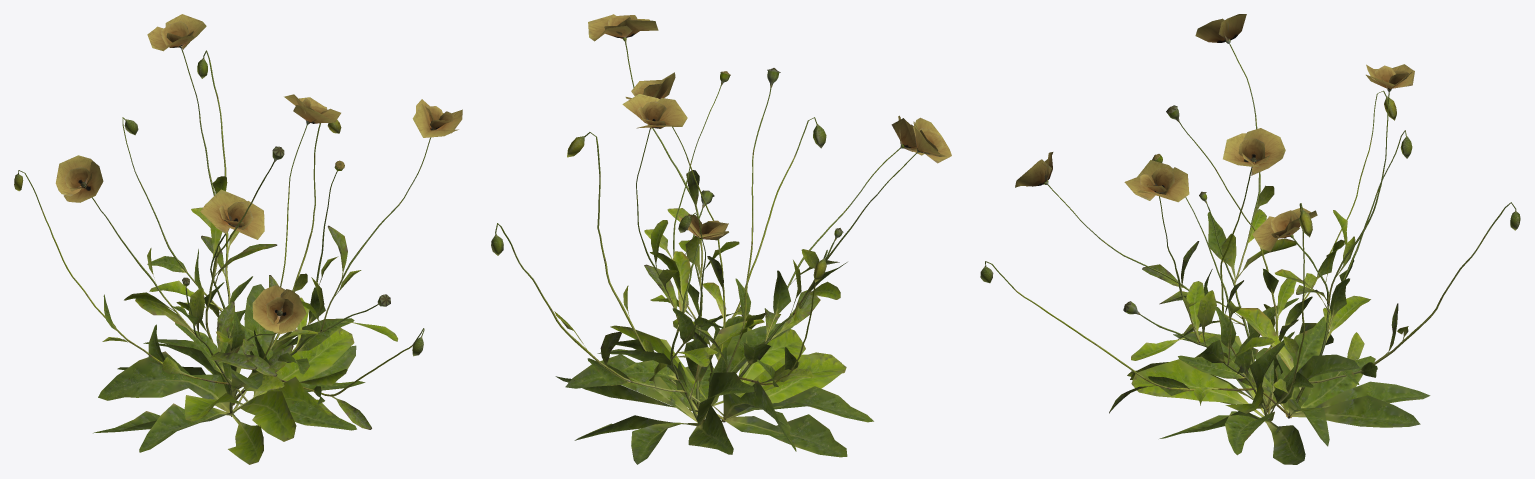
The model's file is Poppy_bush_long_yellowgreen.glb.
The picture shows the model from 3 angles, left to right: view 1: azimuth 30°, elevation 25°; view 2: azimuth 150°, elevation 25°; view 3: azimuth 270°, elevation 25°; orthographic projection. The views are drawn at different scales.
Parts seen in each view (by area): view 1: large bush; view 2: large bush; view 3: large bush.
Part boxes in pixels (x1,y1,x2,y2): large bush: (14,14,462,464); large bush: (491,14,951,464); large bush: (980,14,1520,464).
Bounding box in the file's own units: 6 × 5.32 × 7.44.
Materials: 1 (1 with a texture image).
